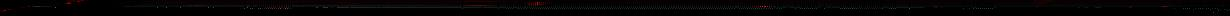Blue cone: (27, 6, 31, 7), (21, 7, 25, 8)
Yellow cone: (525, 2, 553, 6), (932, 6, 940, 8), (1127, 6, 1134, 8)
